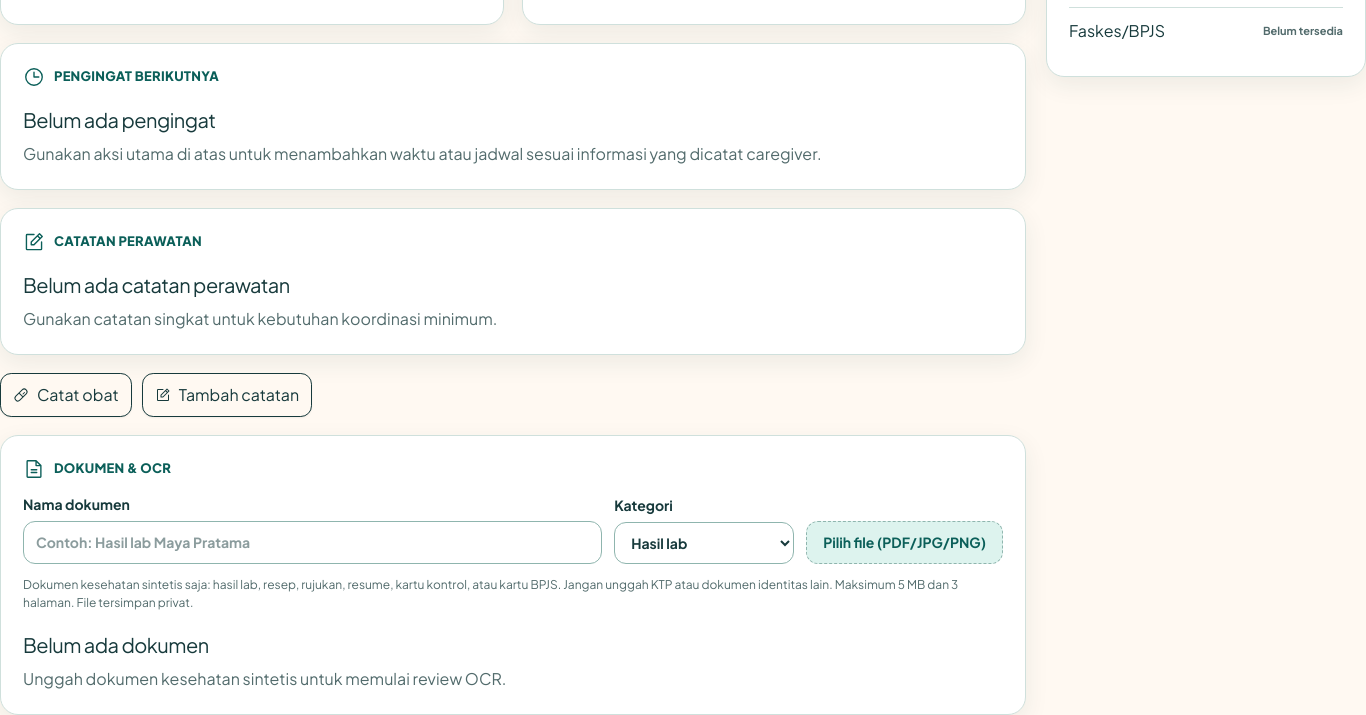
Scenario: Packet 08 caregiver dashboard UI › exposes optional recorded dates without clinical recommendations
This screenshot has width=1366, height=715.
(page scrolled)
Click the button "Catat obat" at {"x": 66, "y": 395}, box [0,373,132,417]
(page scrolled)
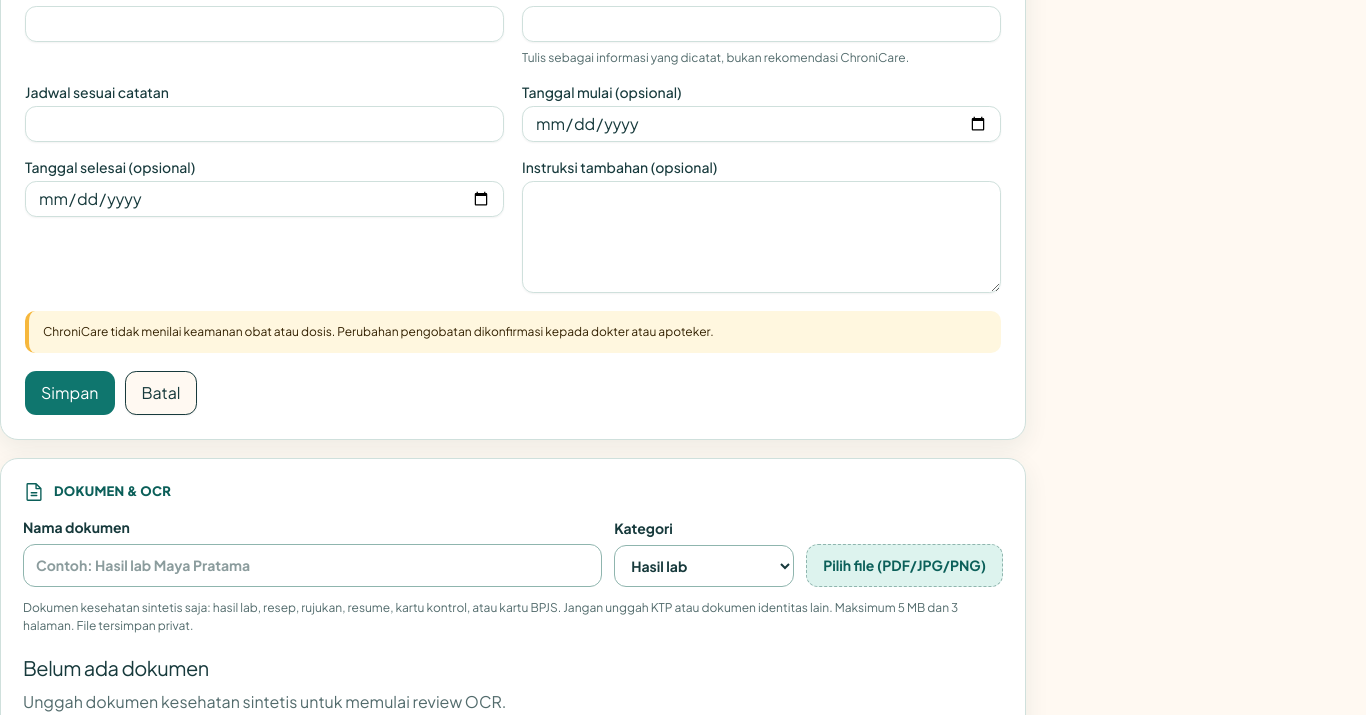
Check: the date field labelled "Tanggal mulai (opsional)" is shown, box [522,106,1001,142]
Check: the date field labelled "Tanggal selesai (opsional)" is shown, box [25,181,504,217]
Check: the text "tidak menilai keamanan obat atau dosis" is shown, box [43,324,714,339]
